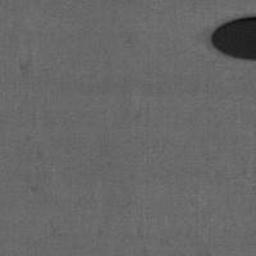Punching: (211, 17, 256, 60)
